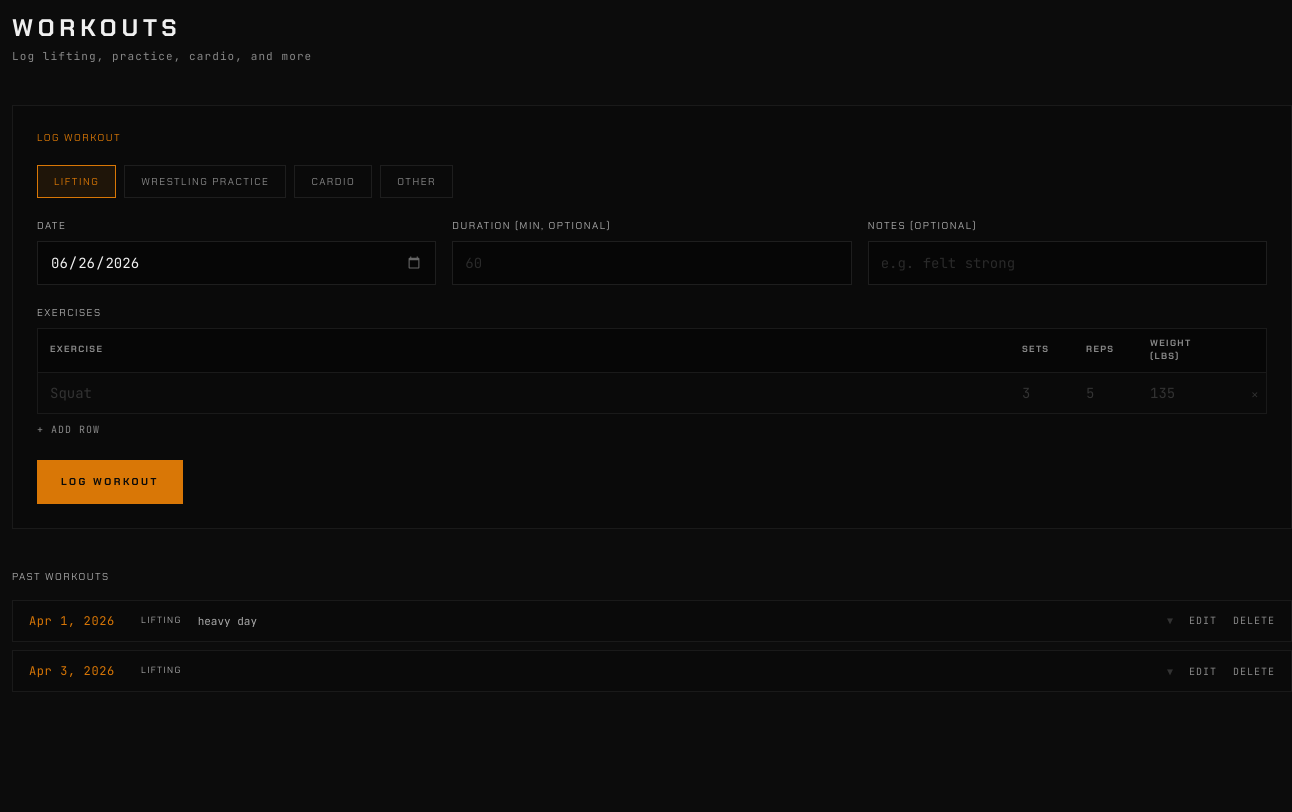
Test: Workouts › expand workout shows exercises on demand
The width and height of the screenshot is (1292, 812).
// Click the first workout row to expand
Click the text "heavy day".
click(227, 621)  # box [198,612,257,629]
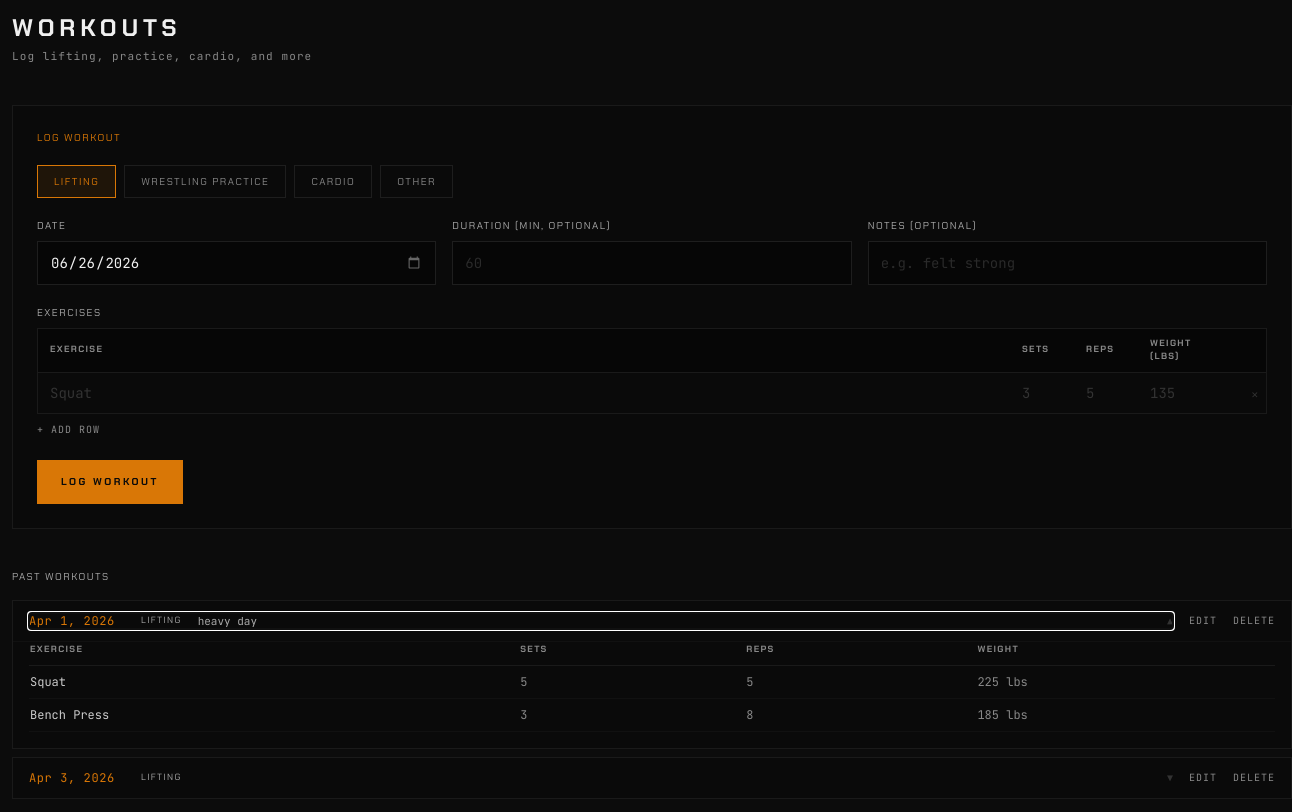
Expected: the text "Squat" is shown, [29,665,519,698]
Expected: the text "Bench Press" is shown, [29,698,519,731]
Expected: the text "225 lbs" is shown, [976,665,1275,698]
